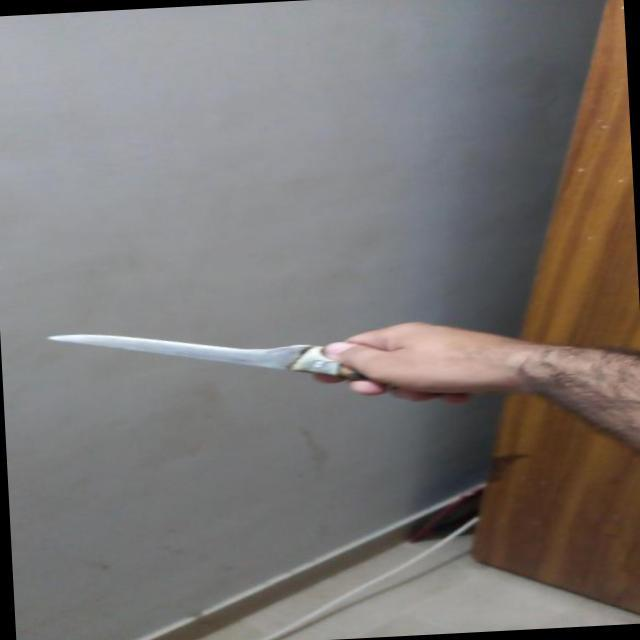Knife: (40, 311, 471, 428)
